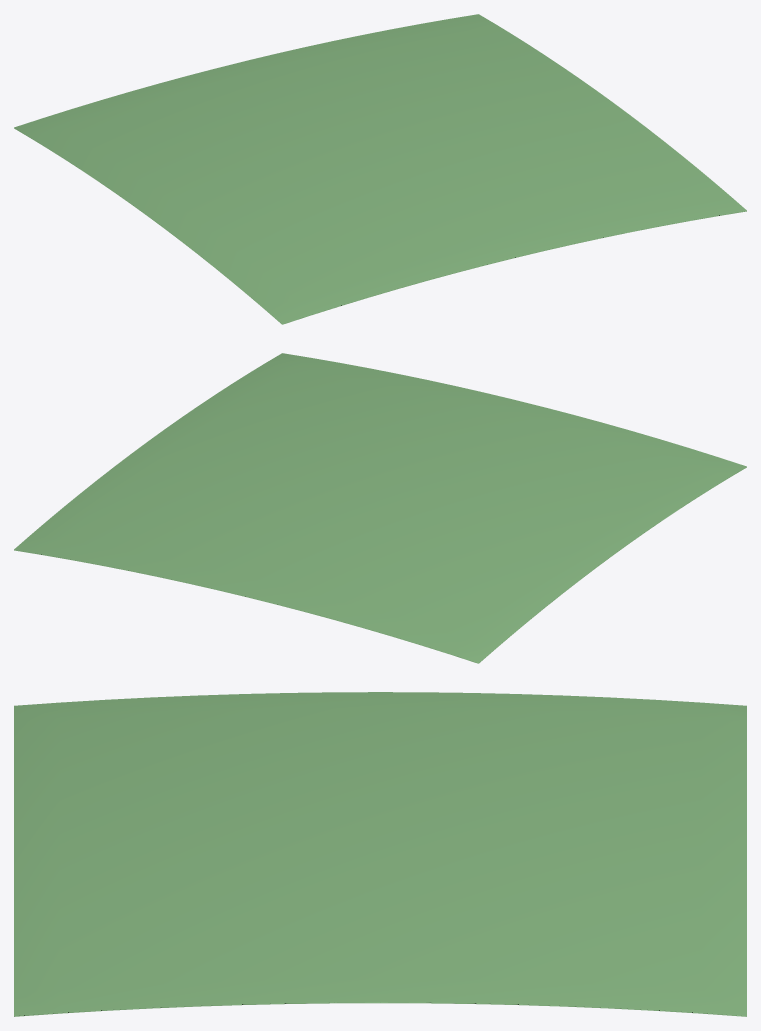
The model's file is planet_930_land_65536.glb.
The picture shows the model from 3 angles, top to bottom: view 1: azimuth 30°, elevation 25°; view 2: azimuth 150°, elevation 25°; view 3: azimuth 270°, elevation 25°; orthographic projection. The views are drawn at different scales.
Parts seen in each view (by area): view 1: planet_930_land_65536; view 2: planet_930_land_65536; view 3: planet_930_land_65536.
Part boxes in pixels (<box>): planet_930_land_65536: <box>14,14,746,324</box>; planet_930_land_65536: <box>14,353,746,663</box>; planet_930_land_65536: <box>14,692,746,1016</box>.
Size of the model in its own units: 65536 by 2824 by 65536.
